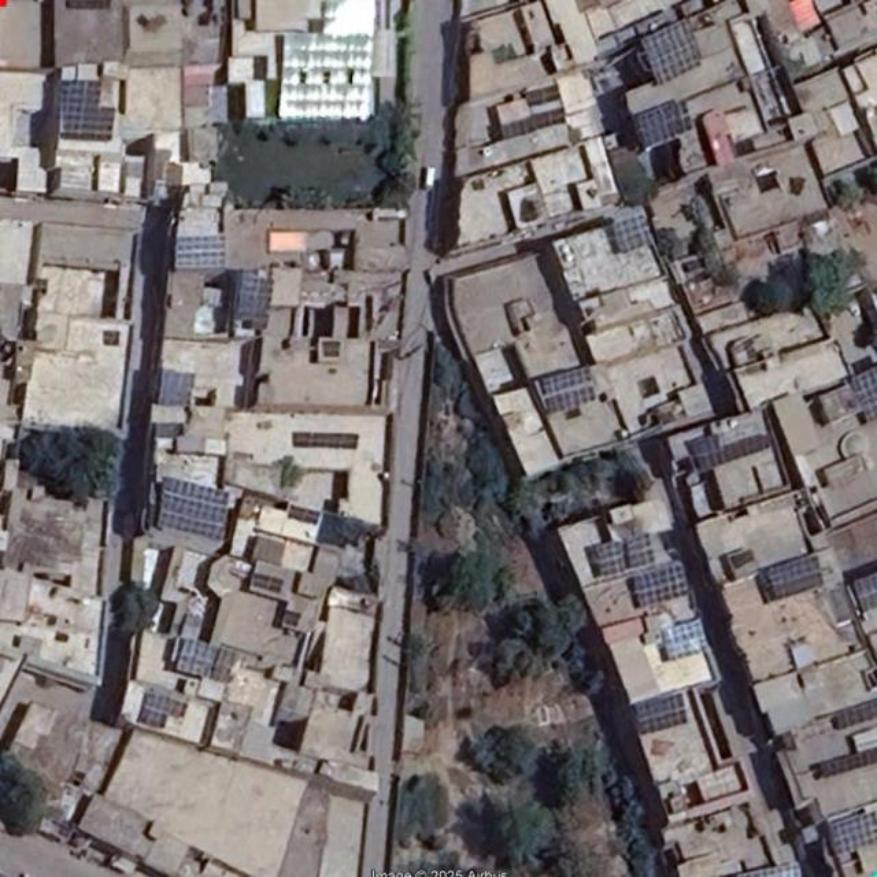Solarpanel: (280, 32, 374, 117), (161, 478, 230, 539), (642, 22, 700, 83), (633, 99, 692, 149), (55, 83, 115, 132), (542, 365, 595, 412), (767, 556, 822, 599), (598, 533, 655, 574), (633, 562, 688, 603), (830, 813, 876, 856), (633, 696, 685, 734), (175, 234, 224, 268), (819, 748, 876, 777), (176, 639, 216, 678), (851, 364, 876, 424), (832, 701, 876, 731), (612, 216, 649, 251), (730, 861, 802, 876), (293, 431, 358, 447), (249, 571, 285, 591), (533, 108, 567, 128), (527, 85, 557, 105), (287, 506, 319, 523)
